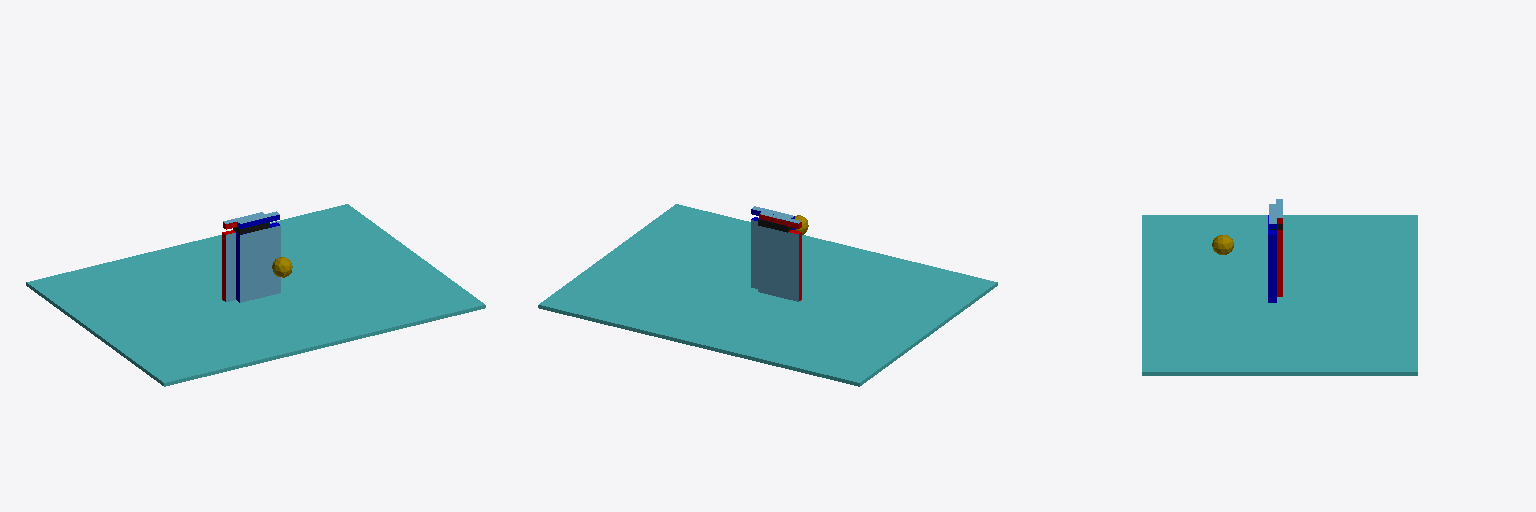
File: ewilight.obj
3 renders of one model, left to right at view 1: azimuth 30°, elevation 25°; view 2: azimuth 150°, elevation 25°; view 3: azimuth 270°, elevation 25°, orthographic.
Visible parts, largest first — view 1: Cube.005_Cube.008, Cube_Cube.002, Cube.001_Cube.003; view 2: Cube.005_Cube.008, Cube.001_Cube.003; view 3: Cube.005_Cube.008, Cube_Cube.002.
Boxes of the visible parts, <box> form: Cube.005_Cube.008: <box>26,204,485,386</box>; Cube_Cube.002: <box>236,222,280,302</box>; Cube.001_Cube.003: <box>222,230,235,301</box>; Cube.005_Cube.008: <box>538,204,997,386</box>; Cube.001_Cube.003: <box>758,226,801,301</box>; Cube.005_Cube.008: <box>1142,215,1417,375</box>; Cube_Cube.002: <box>1268,215,1276,302</box>.
Size of the model in its own units: 9.14 by 2.24 by 6.79.